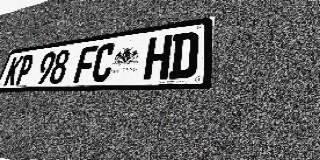8: (48, 49, 72, 84)
9: (34, 51, 58, 85)
C: (90, 42, 117, 82)
D: (168, 31, 199, 79)
F: (73, 45, 99, 83)
H: (143, 35, 173, 80)
K: (3, 56, 24, 86)
P: (14, 54, 35, 85)
